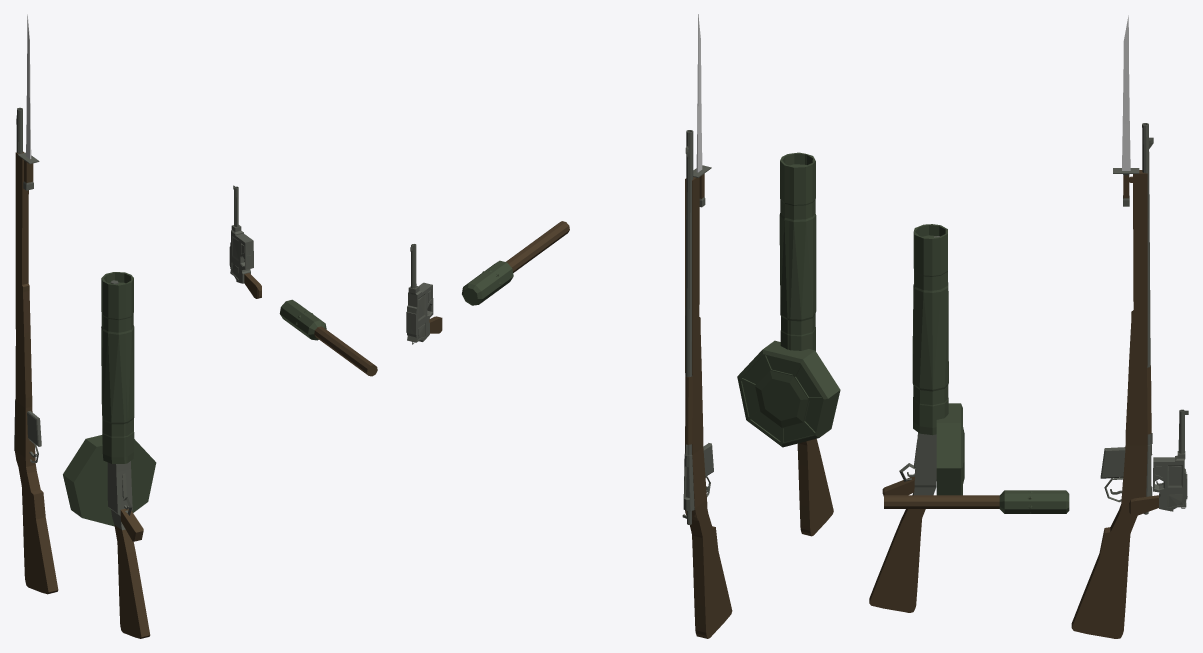
The model's file is Weapons.fbx.
3 renders of one model, left to right at view 1: azimuth 30°, elevation 25°; view 2: azimuth 150°, elevation 25°; view 3: azimuth 270°, elevation 25°, orthographic. The views are drawn at different scales.
Parts seen in each view (by area): view 1: Lewis Gun, Gun Body, Ammo Cylinder, Grenade 2, Pistol 1, Bayonet; view 2: Lewis Gun, Ammo Cylinder, Gun Body, Gun Barrel, Grenade 2, Pistol 1, Bayonet; view 3: Lewis Gun, Gun Body, Grenade 2, Pistol 1, Ammo Cylinder, Gun Barrel, Bayonet, Clip.
Boxes of the visible parts, x1,y1,x2,y2 form: Lewis Gun: (101, 272, 150, 638); Gun Body: (14, 151, 58, 594); Ammo Cylinder: (63, 435, 156, 526); Grenade 2: (279, 299, 377, 376); Pistol 1: (229, 185, 261, 298); Bayonet: (17, 14, 39, 190); Lewis Gun: (779, 152, 833, 536); Ammo Cylinder: (737, 340, 840, 447); Gun Body: (685, 177, 732, 638); Gun Barrel: (683, 130, 694, 511); Grenade 2: (462, 221, 569, 305); Pistol 1: (406, 244, 442, 344); Bayonet: (693, 14, 711, 207); Lewis Gun: (869, 224, 948, 612); Gun Body: (1071, 170, 1151, 638); Grenade 2: (884, 490, 1069, 513); Pistol 1: (1129, 409, 1188, 515); Ammo Cylinder: (936, 403, 964, 495); Gun Barrel: (1142, 123, 1153, 496); Bayonet: (1113, 15, 1139, 206); Clip: (1100, 447, 1125, 478).
Bounding box in the file's own units: 183 × 349 × 162.
